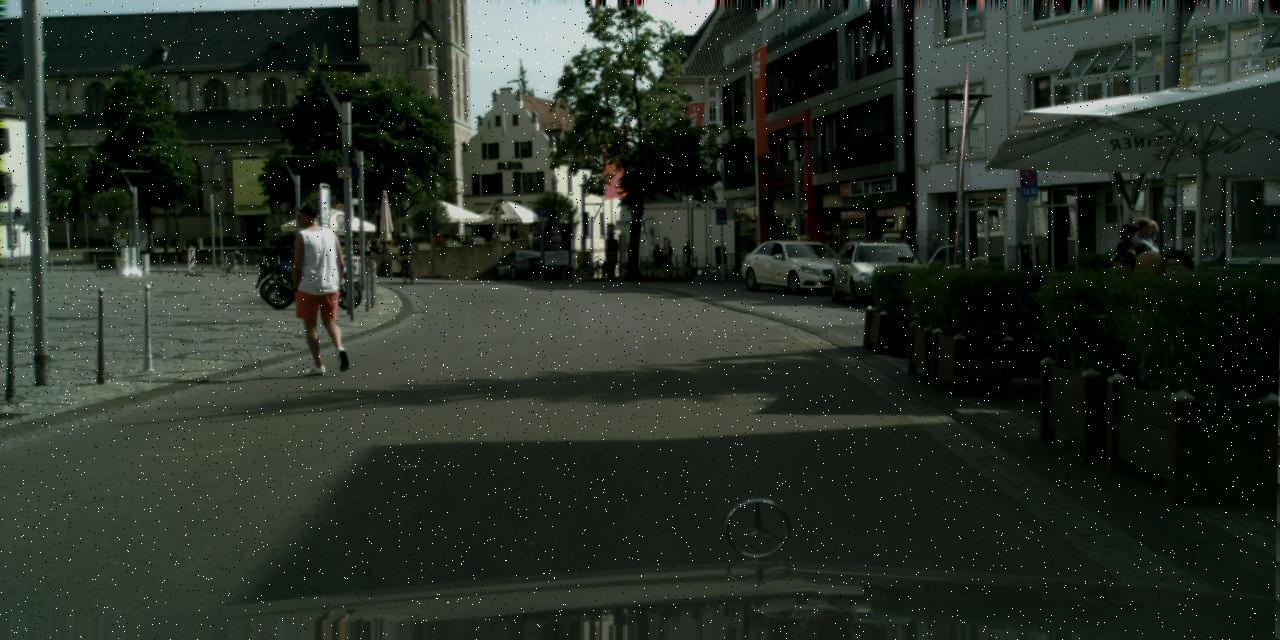ped: (284, 203, 352, 369), (1111, 215, 1193, 270), (921, 234, 945, 294), (396, 232, 414, 276), (660, 240, 676, 277), (680, 240, 695, 278), (651, 244, 663, 276)
